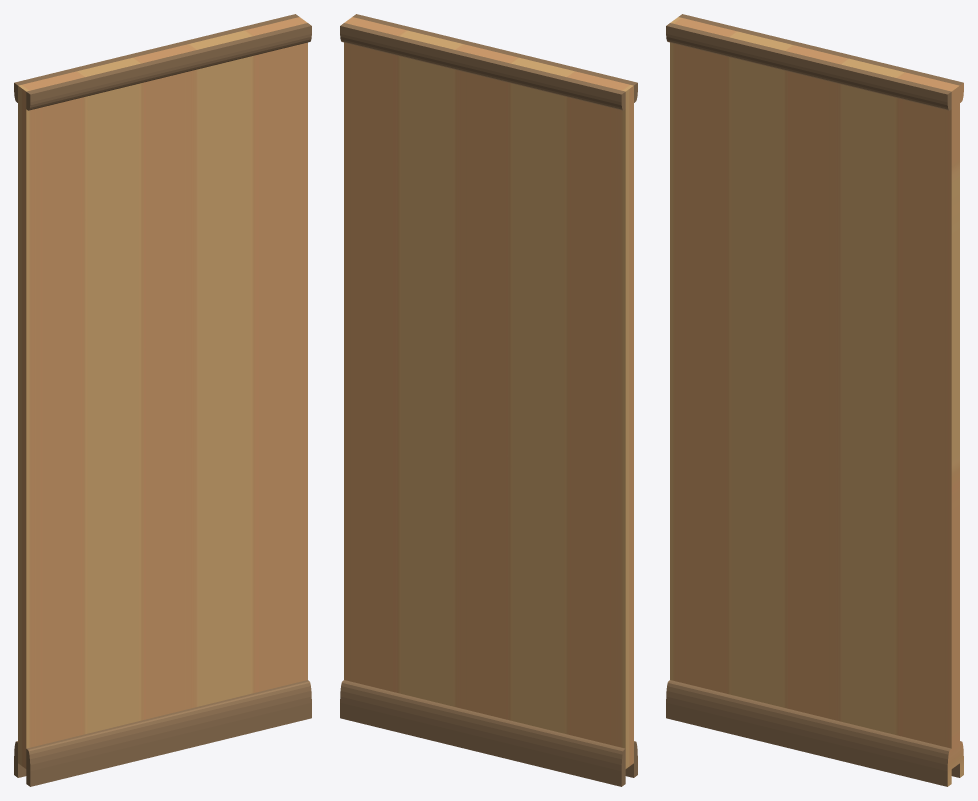
The model's file is wall_half.fbx.
3 views of the same model, side by side, from view 1: azimuth 30°, elevation 25°; view 2: azimuth 150°, elevation 25°; view 3: azimuth 330°, elevation 25° (orthographic).
Visible parts, largest first — view 1: wall_basic.004; view 2: wall_basic.004; view 3: wall_basic.004.
Boxes of the visible parts, bbox=[...] form: wall_basic.004: bbox=[14, 14, 311, 786]; wall_basic.004: bbox=[340, 14, 637, 786]; wall_basic.004: bbox=[666, 14, 963, 786].
Size of the model in its own units: 100 by 235 by 10.
3 materials, 1 textured.
